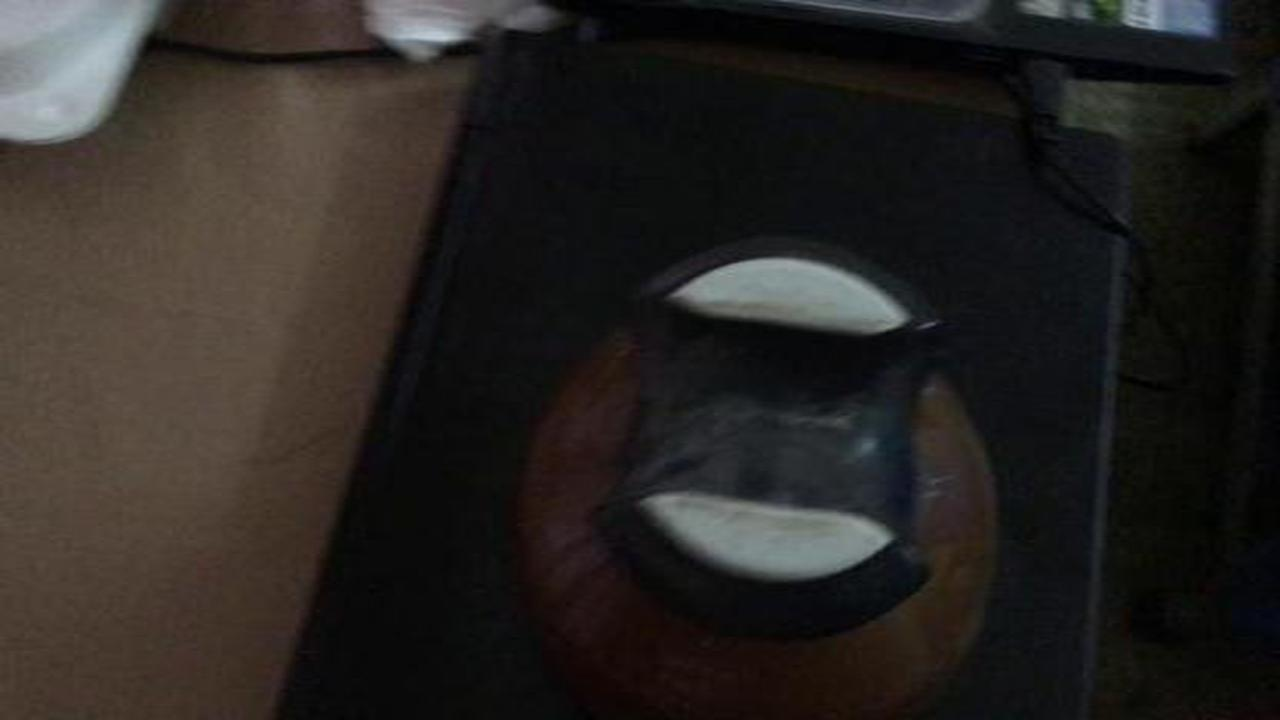insulator_pin: (496, 231, 1031, 714)
